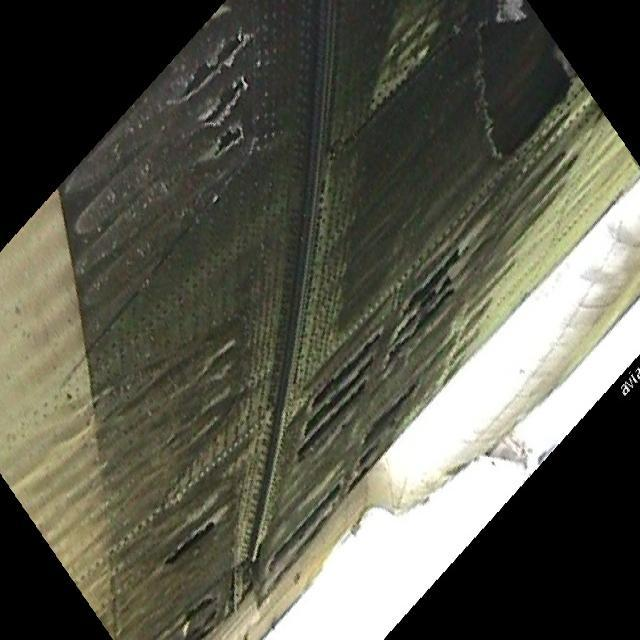crack: (166, 32, 253, 160)
